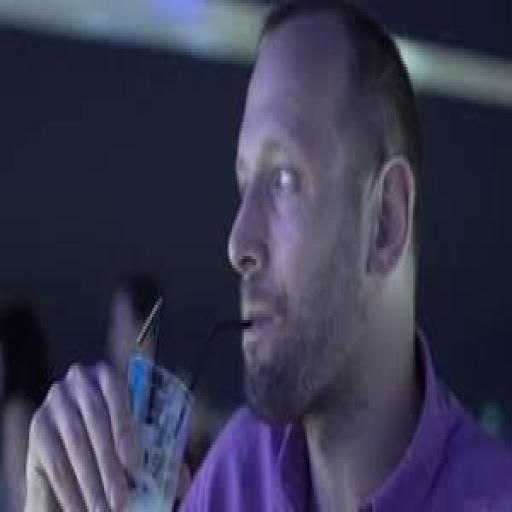drinking: (0, 42, 373, 512)
